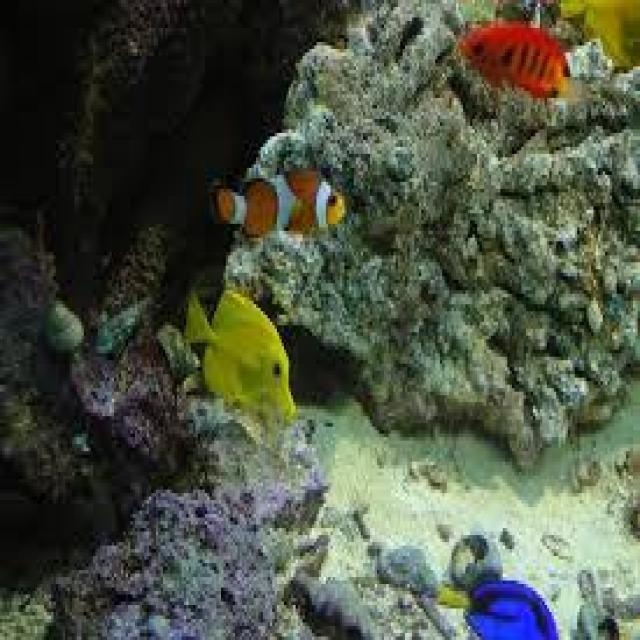YellowTang: (178, 264, 297, 444)
